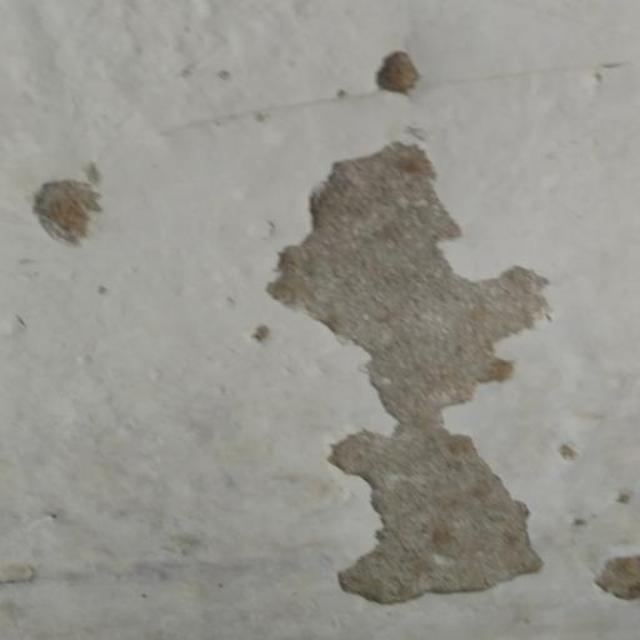wall_peeling: (264, 134, 554, 604), (30, 160, 104, 246), (591, 550, 639, 602), (374, 48, 420, 94)
